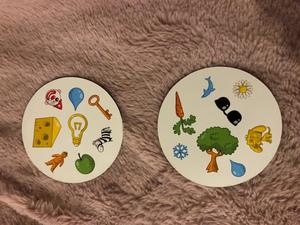ampoule: (66, 114, 90, 151)
arbre: (194, 125, 239, 172)
bonhomme: (46, 149, 70, 172)
carotte: (169, 92, 195, 136)
chien: (241, 122, 273, 154)
cle: (87, 94, 113, 122)
clown: (42, 87, 67, 114)
dauphin: (198, 75, 219, 100)
fleur: (230, 78, 255, 100)
flocon: (169, 141, 192, 163)
fromage: (31, 117, 62, 148)
goutte: (67, 85, 86, 113), (227, 157, 247, 176)
lunette: (214, 95, 242, 127)
pomme: (74, 151, 98, 174)
zebre: (91, 125, 115, 152)
